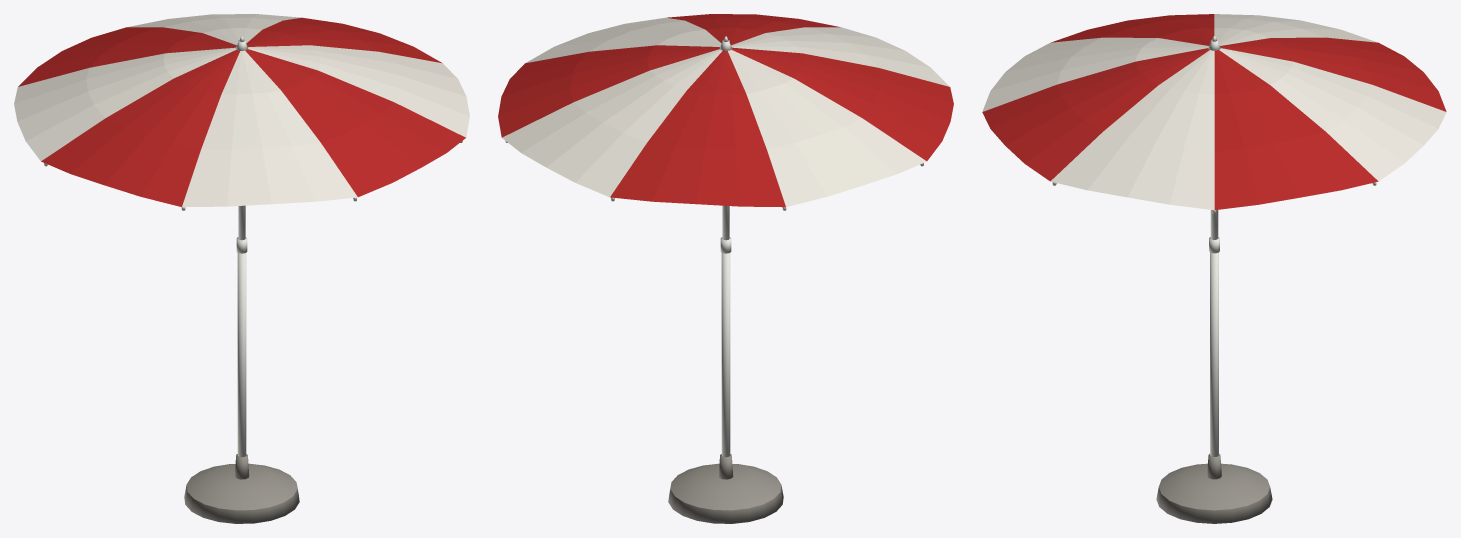
The model's file is GuardaSol.fbx.
3 views of the same model, side by side, from view 1: azimuth 30°, elevation 25°; view 2: azimuth 150°, elevation 25°; view 3: azimuth 270°, elevation 25° (orthographic).
Visible parts, largest first — view 1: GuardaSol; view 2: GuardaSol; view 3: GuardaSol.
Part boxes in pixels (bbox=[...]): GuardaSol: bbox=[14, 14, 469, 523]; GuardaSol: bbox=[498, 14, 953, 523]; GuardaSol: bbox=[982, 14, 1446, 523].
Size of the model in its own units: 2 by 2.2 by 2.
